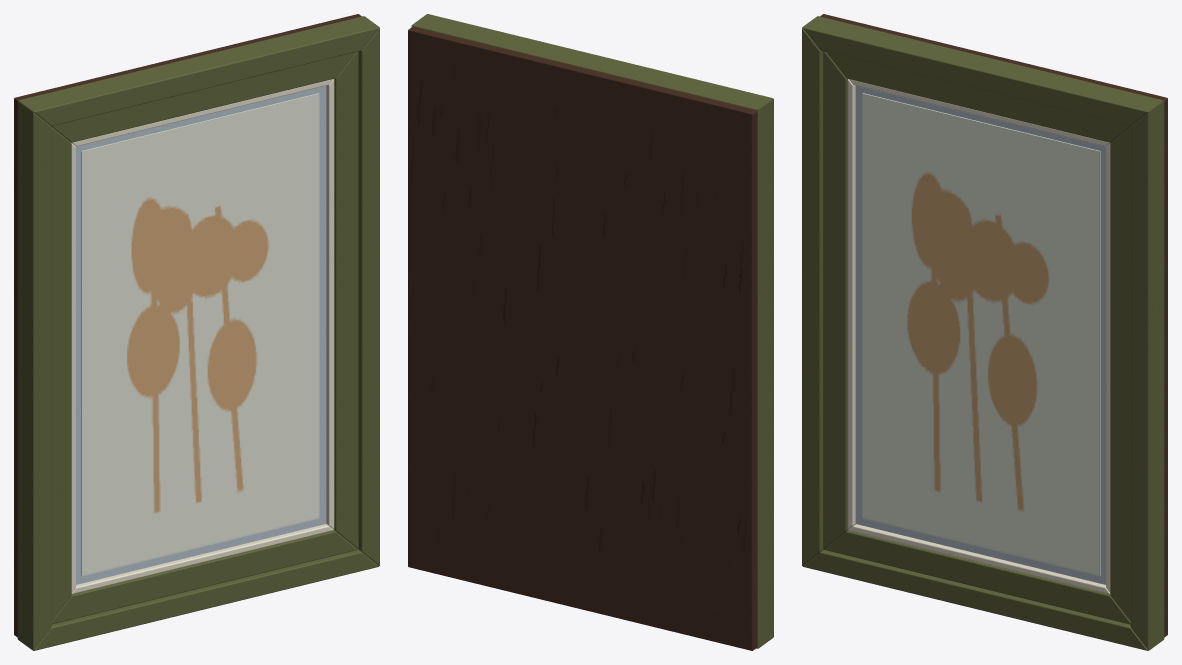
The model's file is Frame_22_FUR06_A5.fbx.
3 renders of one model, left to right at view 1: azimuth 30°, elevation 25°; view 2: azimuth 150°, elevation 25°; view 3: azimuth 330°, elevation 25°, orthographic.
Parts seen in each view (by area): view 1: Frame_22; view 2: Frame_22; view 3: Frame_22.
Part boxes in pixels (<box>): Frame_22: <box>14,14,379,650</box>; Frame_22: <box>408,14,773,650</box>; Frame_22: <box>802,14,1167,650</box>.
Bounding box in the file's own units: 0.35 × 0.52 × 0.036.
